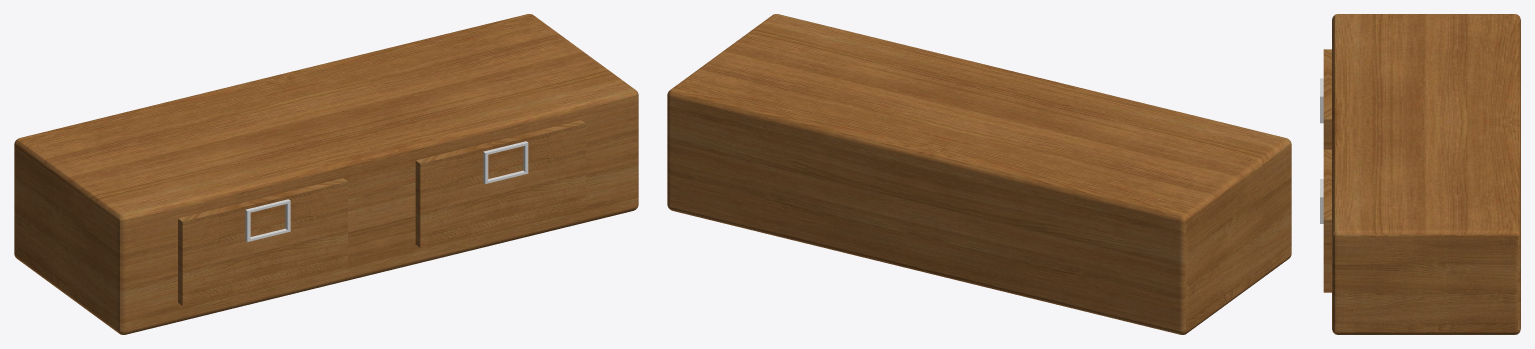
3 renders of one model, left to right at view 1: azimuth 30°, elevation 25°; view 2: azimuth 150°, elevation 25°; view 3: azimuth 270°, elevation 25°, orthographic. The views are drawn at different scales.
Visible parts, largest first — view 1: pCube53, pCube61, pCube60; view 2: pCube53; view 3: pCube53, pCube61, pCube60.
Boxes of the visible parts, box(x1,y1,x2,y2) form: pCube53: box(14, 14, 638, 334); pCube61: box(415, 120, 585, 247); pCube60: box(178, 178, 347, 305); pCube53: box(667, 14, 1291, 334); pCube53: box(1332, 14, 1520, 334); pCube61: box(1320, 149, 1331, 292); pCube60: box(1320, 49, 1331, 149).
Size of the model in its own units: 20.13 by 4.48 by 7.76.
2 materials, 1 textured.
